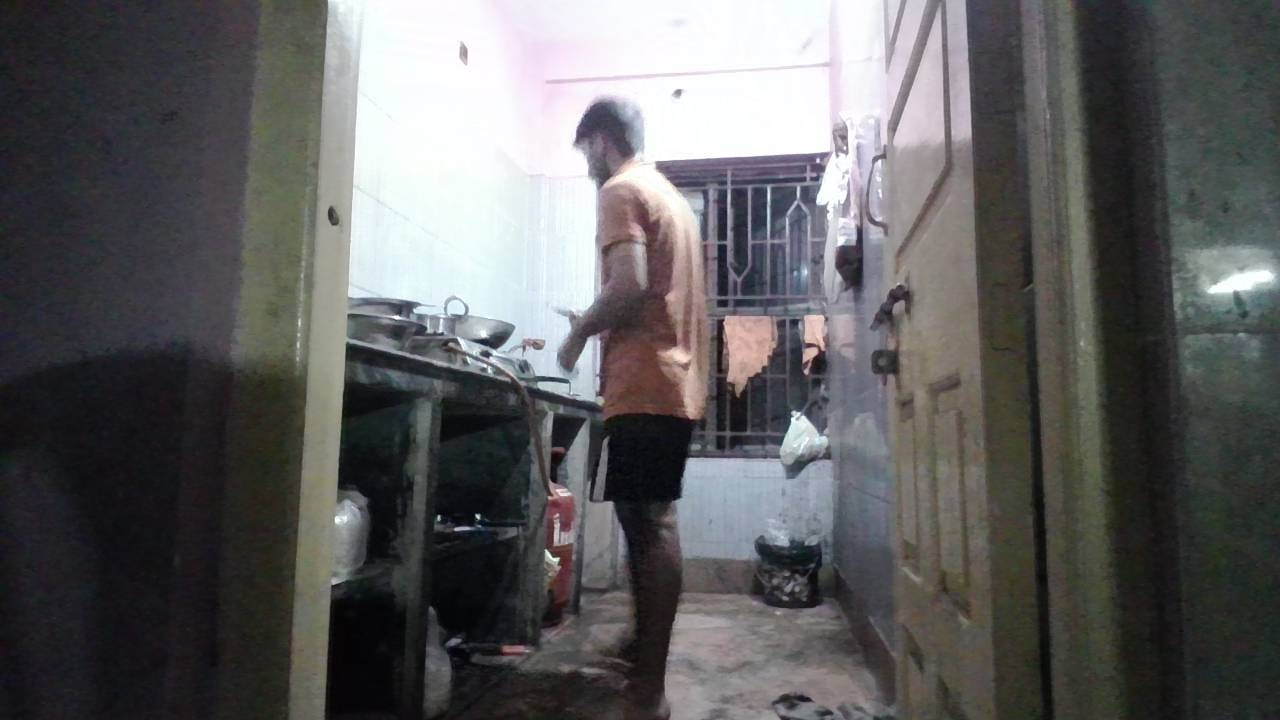red_box: (608, 344, 683, 416)
